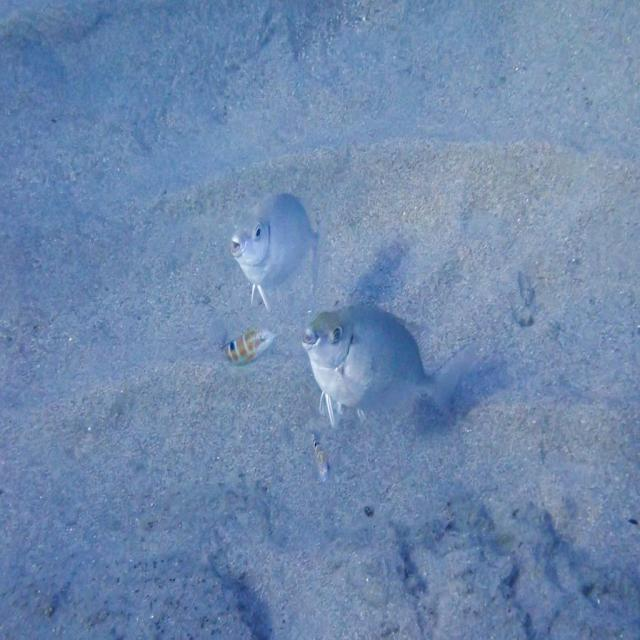Sokar Baligi: (298, 295, 468, 444), (217, 188, 332, 314)
